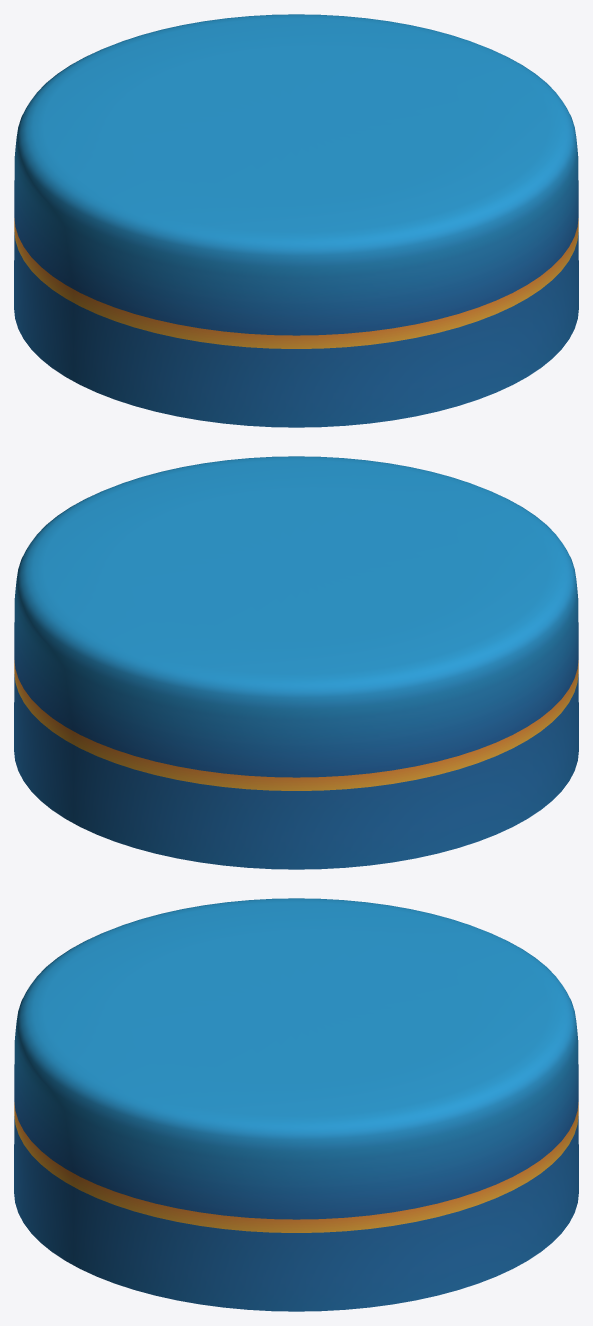
The model's file is cake04.FBX.
3 views of the same model, one above another, from view 1: azimuth 30°, elevation 25°; view 2: azimuth 150°, elevation 25°; view 3: azimuth 270°, elevation 25° (orthographic).
Visible parts, largest first — view 1: cake04; view 2: cake04; view 3: cake04.
Part boxes in pixels (x1,y1,x2,y2): cake04: (14,14,578,427); cake04: (14,456,578,869); cake04: (14,898,578,1311).
Size of the model in its own units: 0.0193 by 0.00693 by 0.0193.
